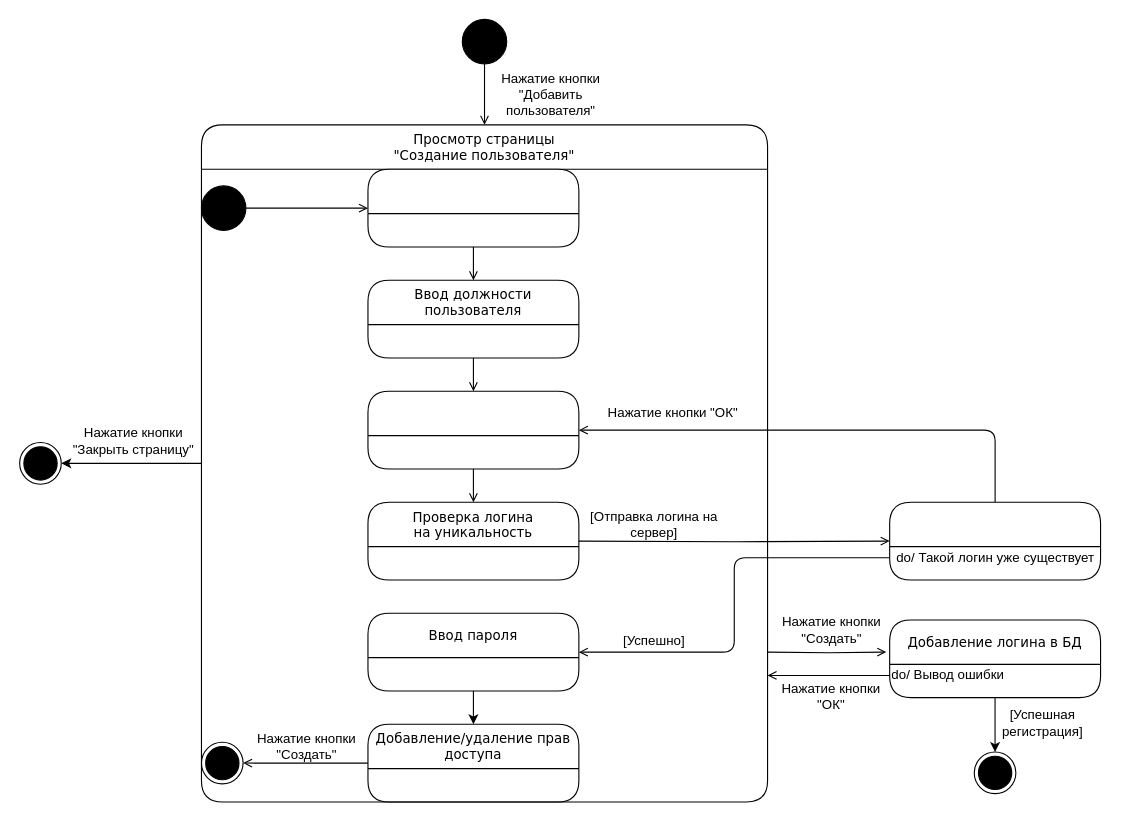
Some shapes in this 1134 by 821 pixel diagram are drawn without their labels. The shapes that lost their labels are listed below. From the top down, each one's centre as x and y in pixels, then its label:
point (473, 207): Ввод ФИО пользователя
point (473, 429): Ввод логина пользователя
point (995, 540): Проверка логина на уникальность на сервере
